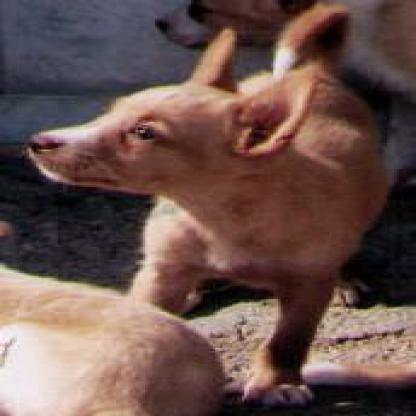dog: (13, 6, 391, 408)
